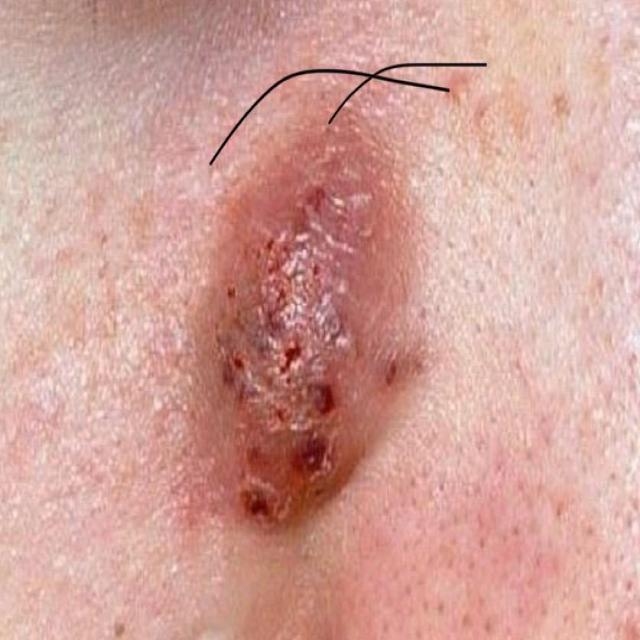nodule: (185, 136, 429, 563)
